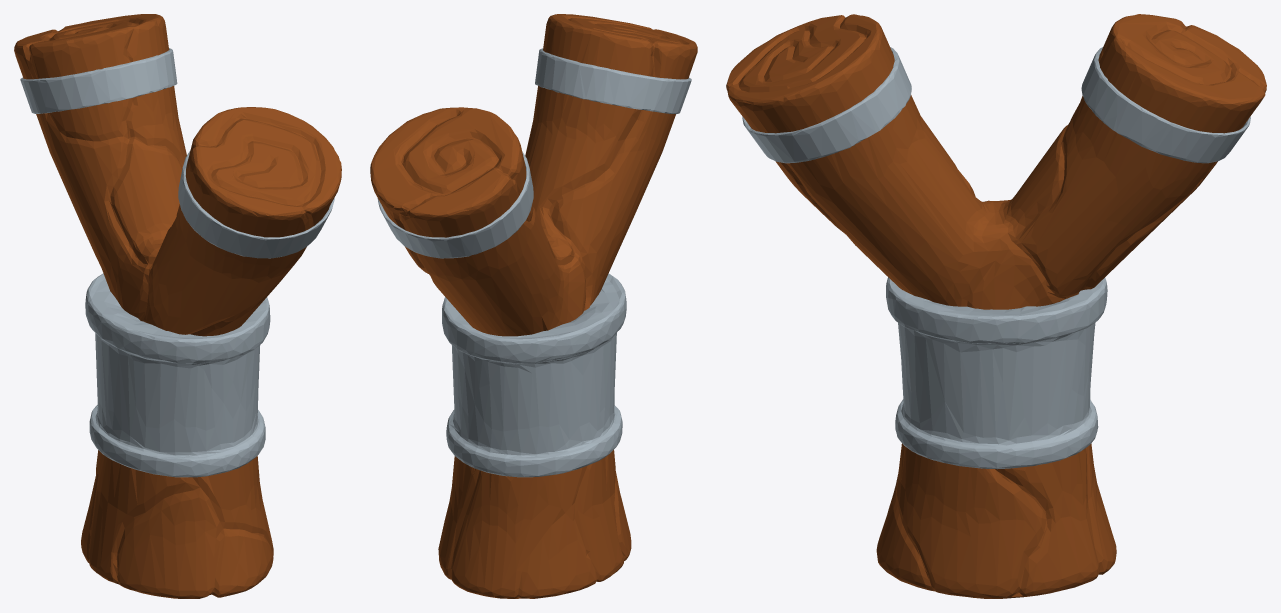
The model's file is Player1.fbx.
3 views of the same model, side by side, from view 1: azimuth 30°, elevation 25°; view 2: azimuth 150°, elevation 25°; view 3: azimuth 270°, elevation 25° (orthographic). The views are drawn at different scales.
Visible parts, largest first — view 1: Player; view 2: Player; view 3: Player.
Part boxes in pixels (box(x1,y1,x2,y2)): Player: box(14, 14, 341, 598); Player: box(370, 14, 697, 598); Player: box(726, 14, 1266, 598).
Size of what is drawn, in the model's own units: 1.36 by 4 by 3.69.
